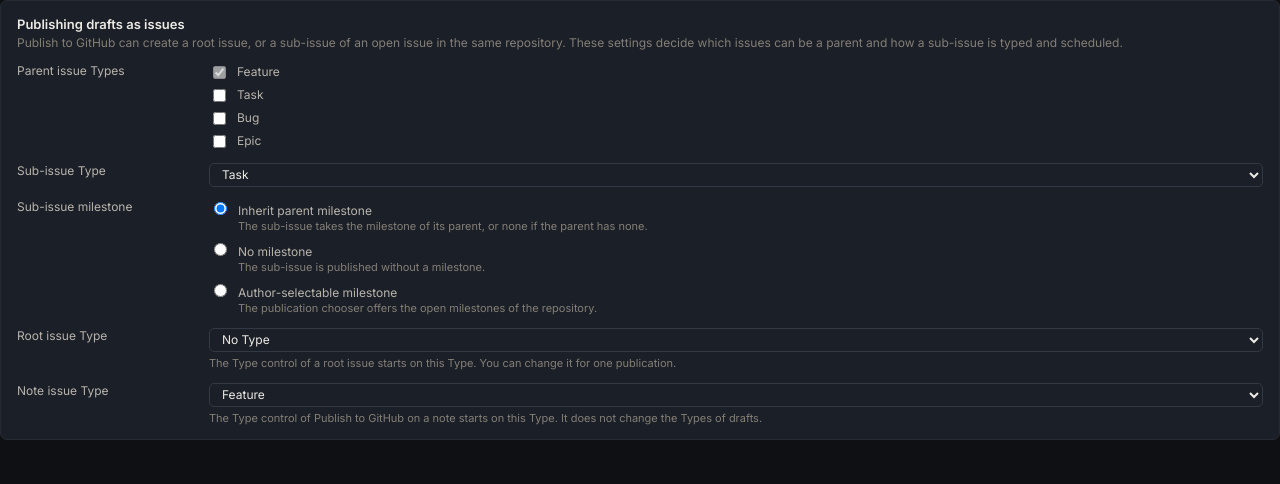
Test: the Publication group of GitHub Project settings › SET-FR-MQUE: a refused write keeps the previous values and renders the error inline
The width and height of the screenshot is (1280, 484).
Step 1. Select "Bug" in the dropdown labelled "Sub-issue Type" → [736, 175], box [209, 163, 1263, 187]
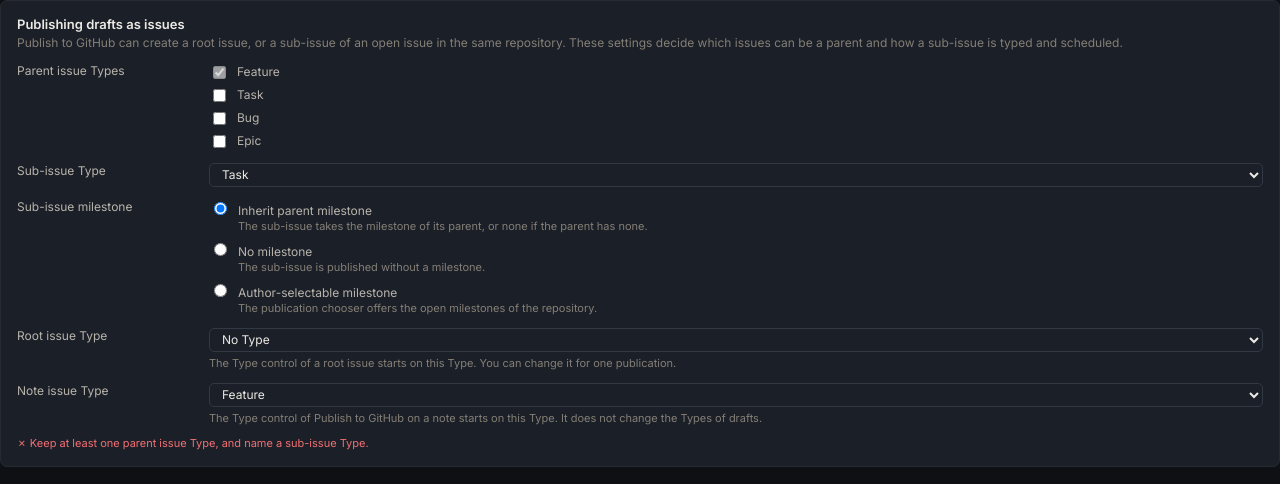
Check: the message with test id "github-publication-save-error" shows "Keep at least one parent issue Type", box [30, 436, 368, 450]
